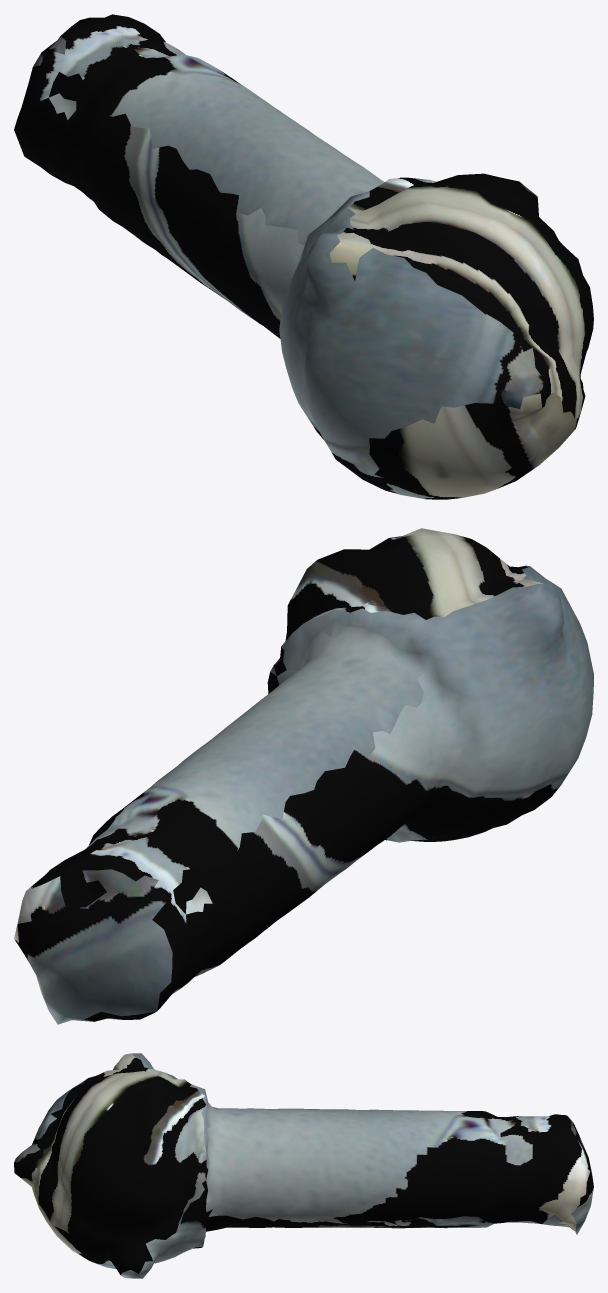
The model's file is scan_align.obj.
The picture shows the model from 3 angles, top to bottom: view 1: azimuth 30°, elevation 25°; view 2: azimuth 150°, elevation 25°; view 3: azimuth 270°, elevation 25°; orthographic projection. The views are drawn at different scales.
Bounding box in the file's own units: 0.0343 × 0.0341 × 0.0972.
